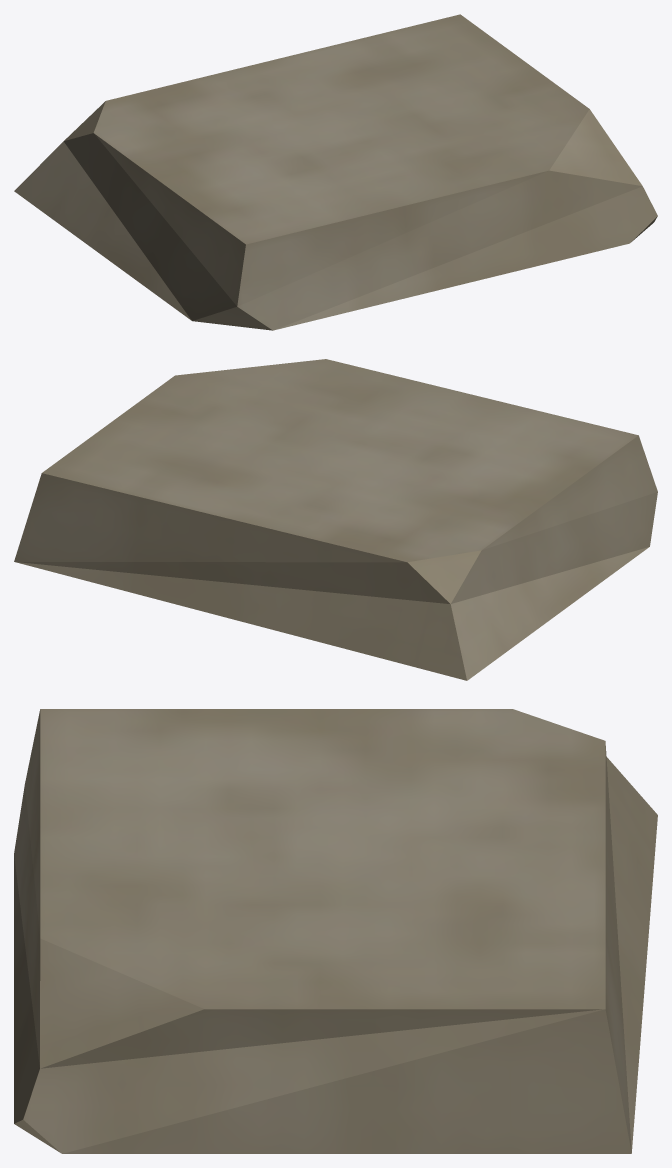
Rendered from rock_small5_wide_fbx.fbx.
The picture shows the model from 3 angles, top to bottom: view 1: azimuth 30°, elevation 25°; view 2: azimuth 150°, elevation 25°; view 3: azimuth 270°, elevation 25°; orthographic projection. The views are drawn at different scales.
Parts seen in each view (by area): view 1: rock_small5_wide; view 2: rock_small5_wide; view 3: rock_small5_wide.
Part boxes in pixels (x1,y1,x2,y2): rock_small5_wide: (14,14,657,330); rock_small5_wide: (14,359,657,680); rock_small5_wide: (14,709,657,1153).
Bounding box in the file's own units: 219 × 39.52 × 176.
Materials: 1 (1 with a texture image).
